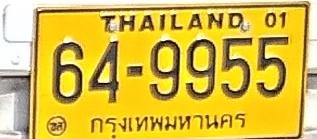4: (89, 39, 120, 103)
5: (256, 35, 289, 97), (221, 36, 253, 98)
6: (52, 40, 84, 104)
9: (149, 38, 180, 100), (186, 38, 216, 100)
BKK: (84, 105, 251, 137)
